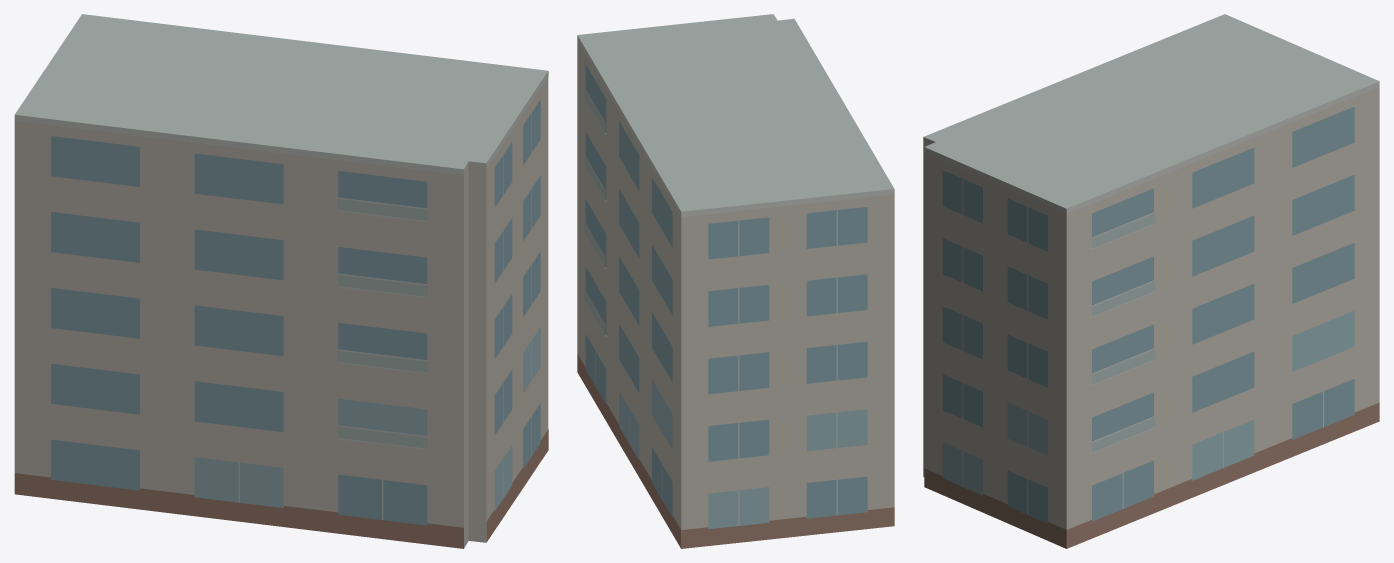
File: survey-upis-32595422.glb
The picture shows the model from 3 angles, left to right: view 1: azimuth 30°, elevation 25°; view 2: azimuth 150°, elevation 25°; view 3: azimuth 270°, elevation 25°; orthographic projection. The views are drawn at different scales.
Parts seen in each view (by area): view 1: survey-upis-32595422.tmp; view 2: survey-upis-32595422.tmp; view 3: survey-upis-32595422.tmp.
Boxes of the visible parts, left/top/right/bottom form: survey-upis-32595422.tmp: left=14, top=14, right=548, bottom=548; survey-upis-32595422.tmp: left=577, top=14, right=894, bottom=548; survey-upis-32595422.tmp: left=923, top=14, right=1379, bottom=548.
Bounding box in the file's own units: 18.74 × 15.25 × 18.55.
